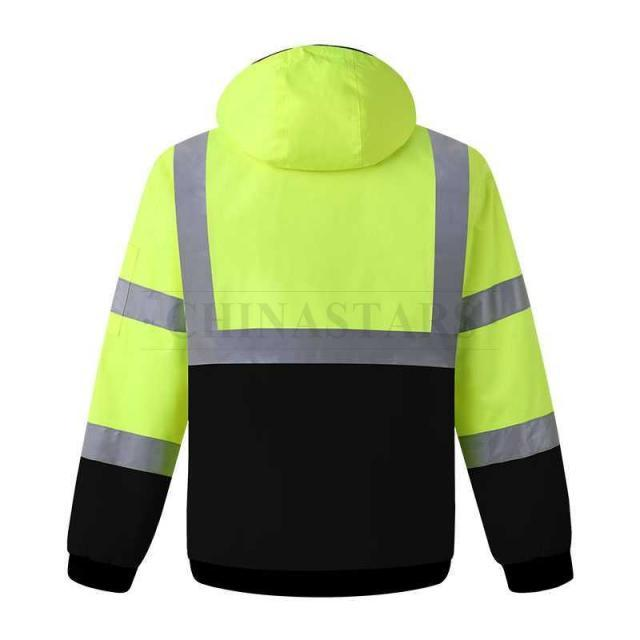reflective_jacket: (33, 52, 590, 621)
